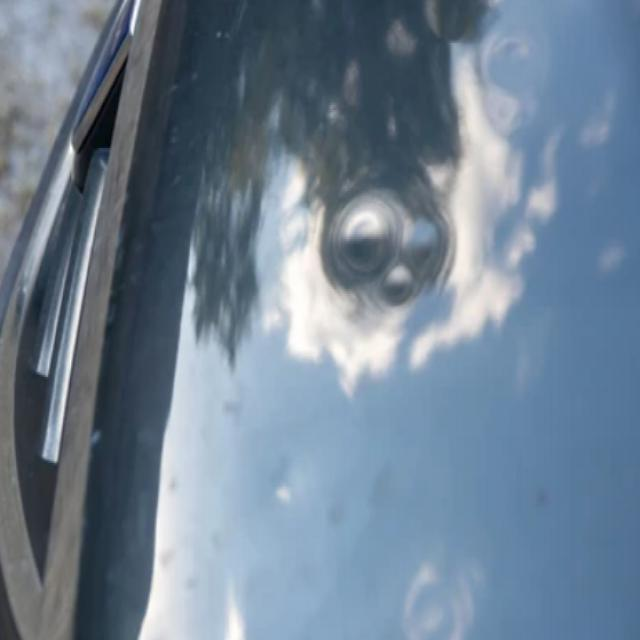dents: (331, 187, 390, 281), (387, 254, 418, 332)
